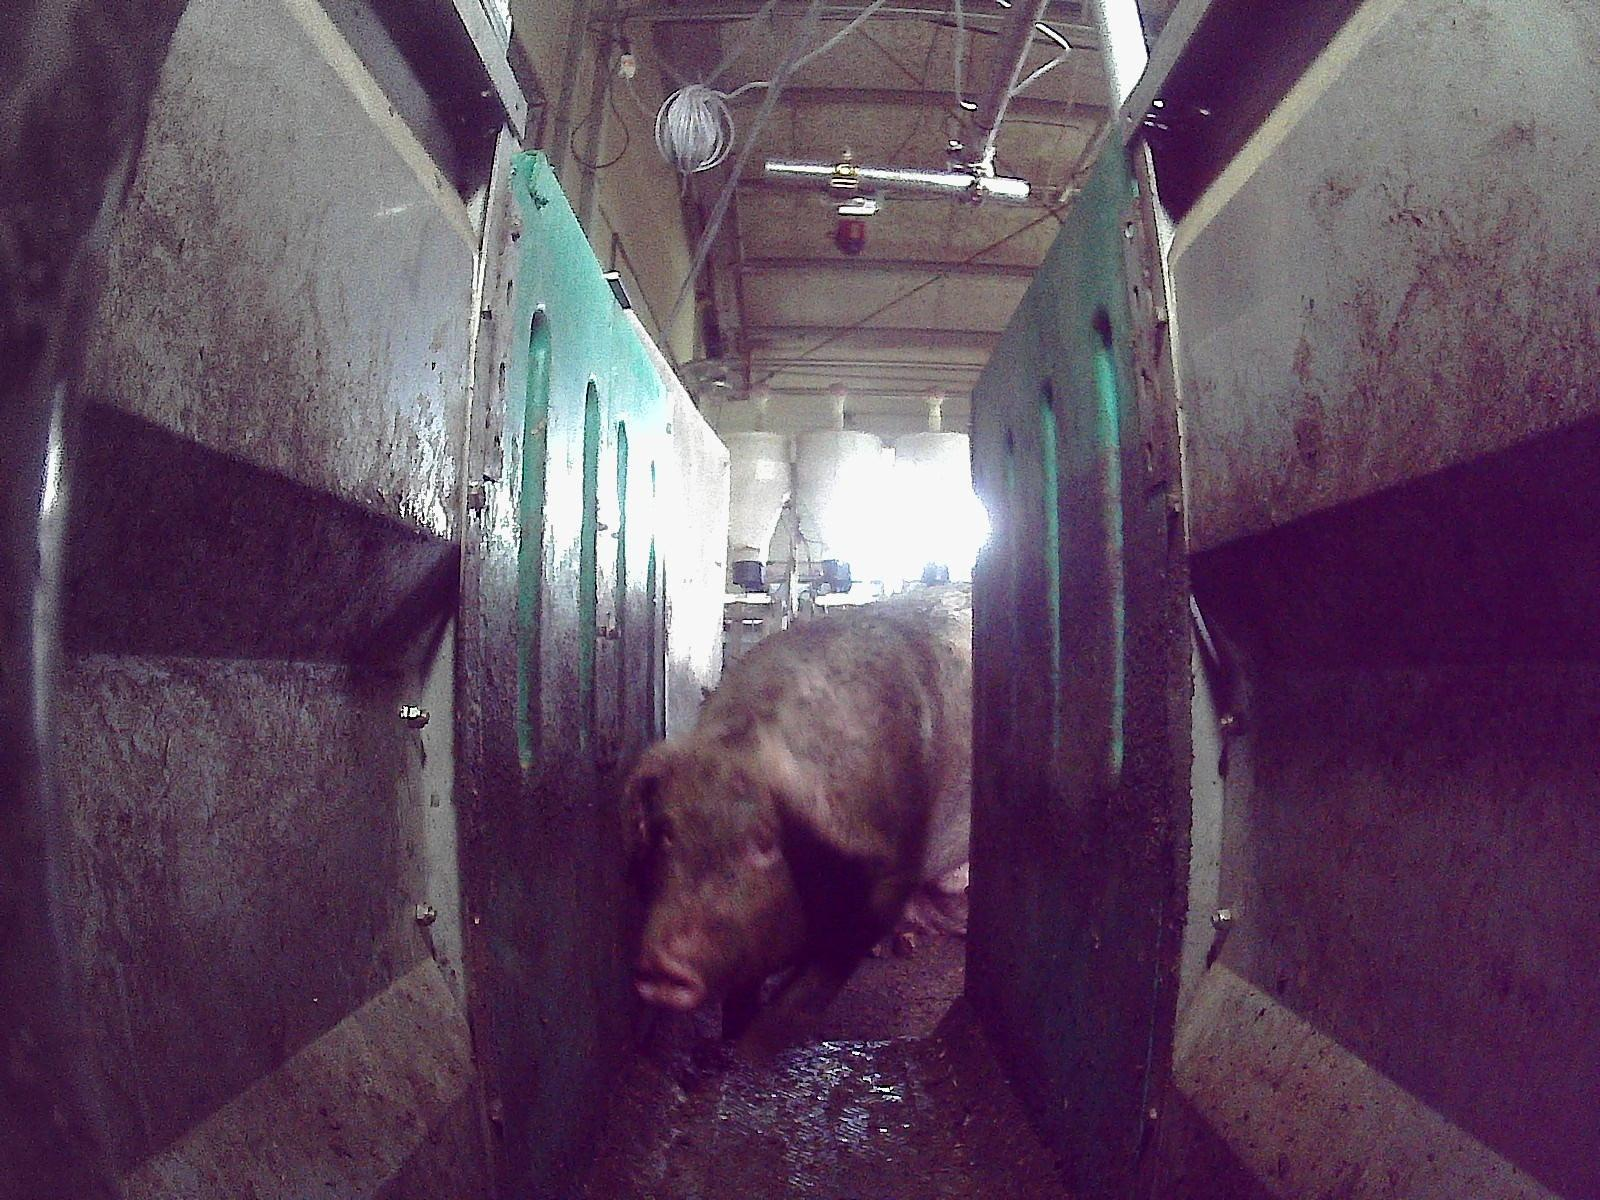Face: (631, 730, 812, 1004)
